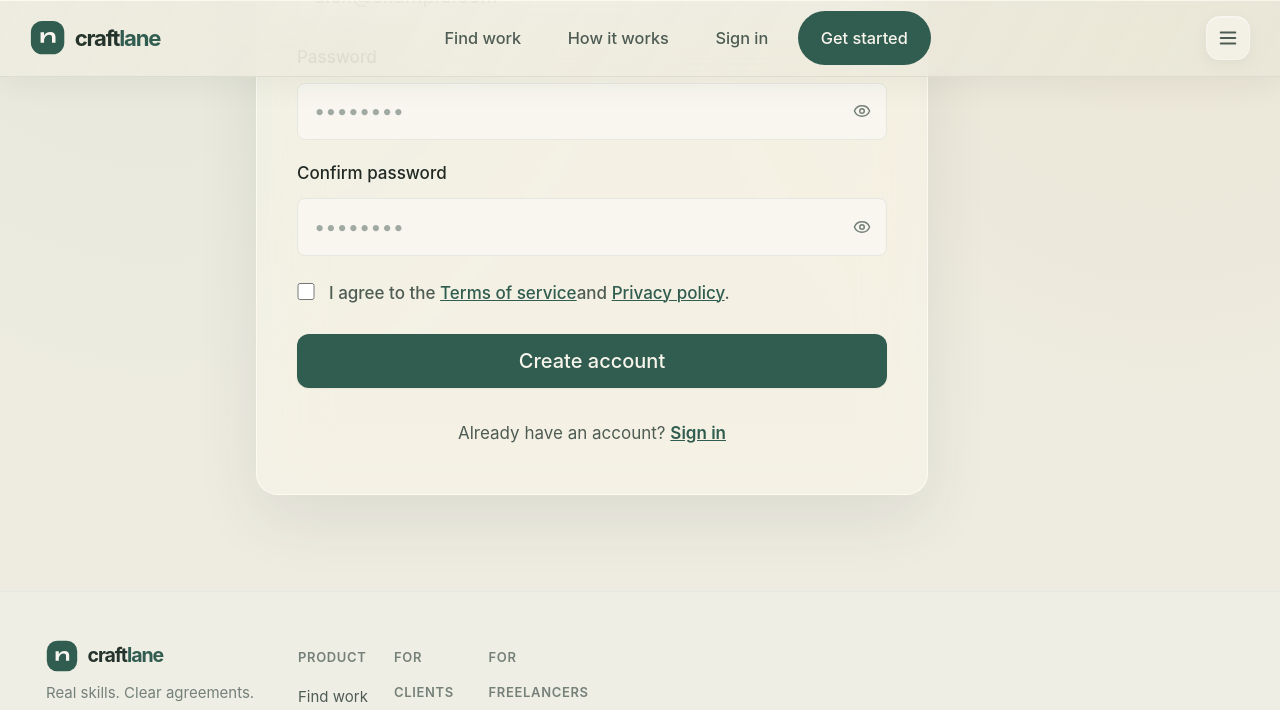
Test: SignUpPage › shows validation errors on submit with empty required fields
The image size is (1280, 710).
(page scrolled)
Click the button "Create account". click: x=592, y=361
box: [297,334,887,388]
(page scrolled)
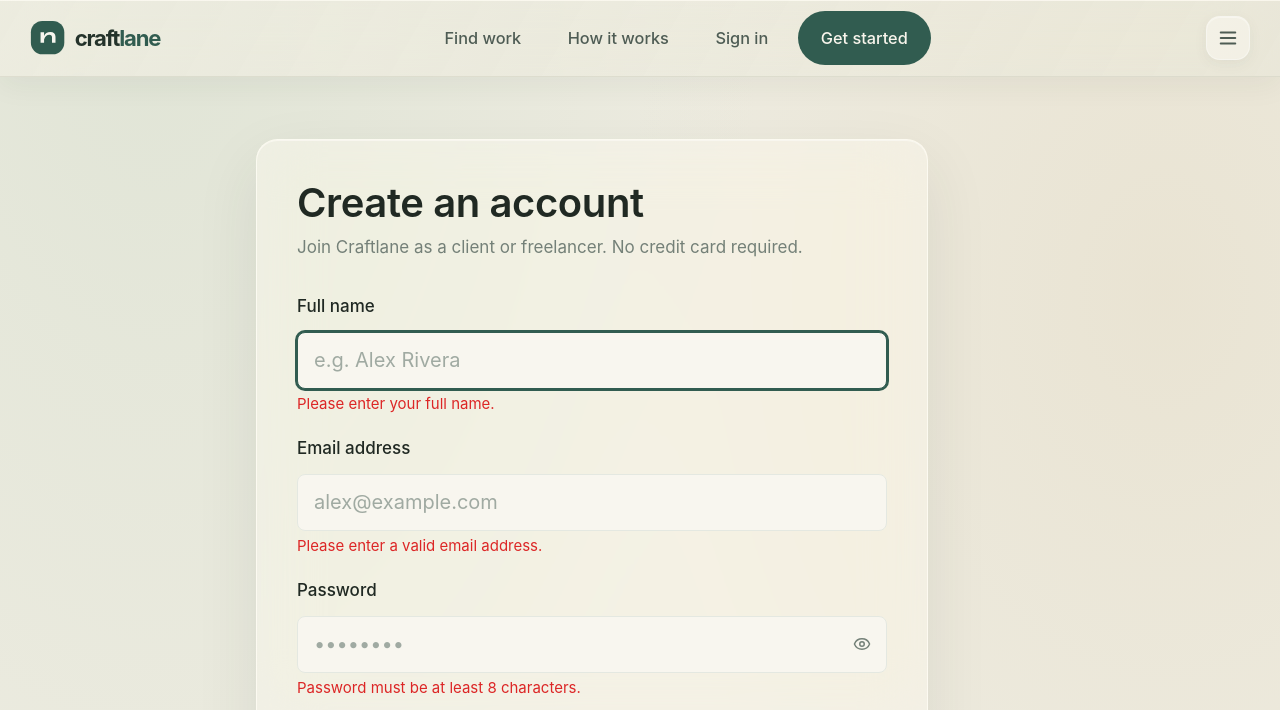
Now the text "Please enter your full name." is shown, box [297,394,495,413]
Now the text "Please enter a valid email address." is shown, box [297,536,542,555]
Now the text "Password must be at least 8 characters." is shown, box [297,678,581,697]
